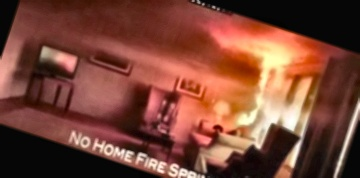fire: (188, 10, 329, 154)
